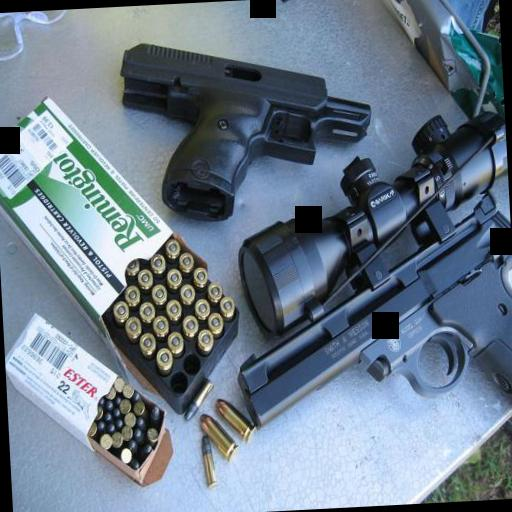Handgun: (223, 113, 512, 450), (110, 22, 368, 219)
